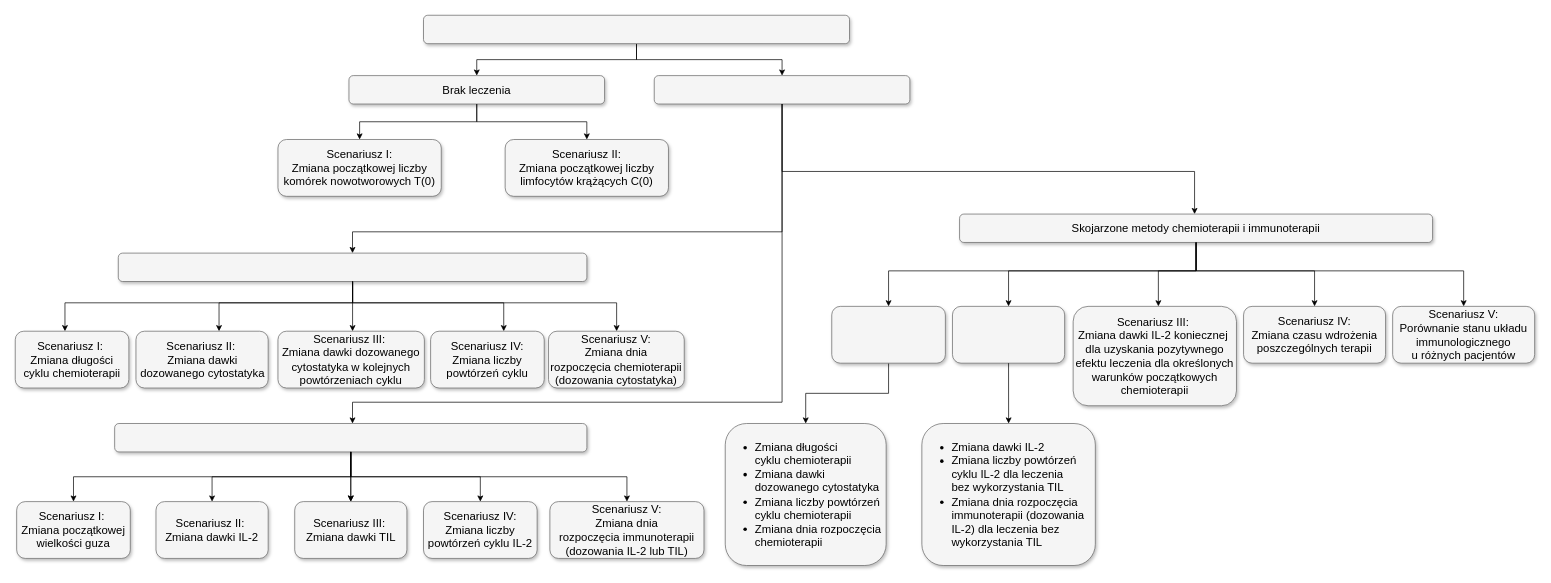
Some shapes in this 1551 by 583 pixel diagram are drawn without their labels. Each missing label, with the centre of its shape:
"Chemioterapia" belongs at [353,268].
"Immunoterapia" belongs at [351,438].
"Leczenie" belongs at [782,90].
"Scenariusz I: Zmiana warunków początkowych chemioterapii" belongs at [889,335].
"Scenariusz II: Zmiana warunków początkowych immunoterapii" belongs at [1009,335].
"Symulacje" belongs at [637,30].
